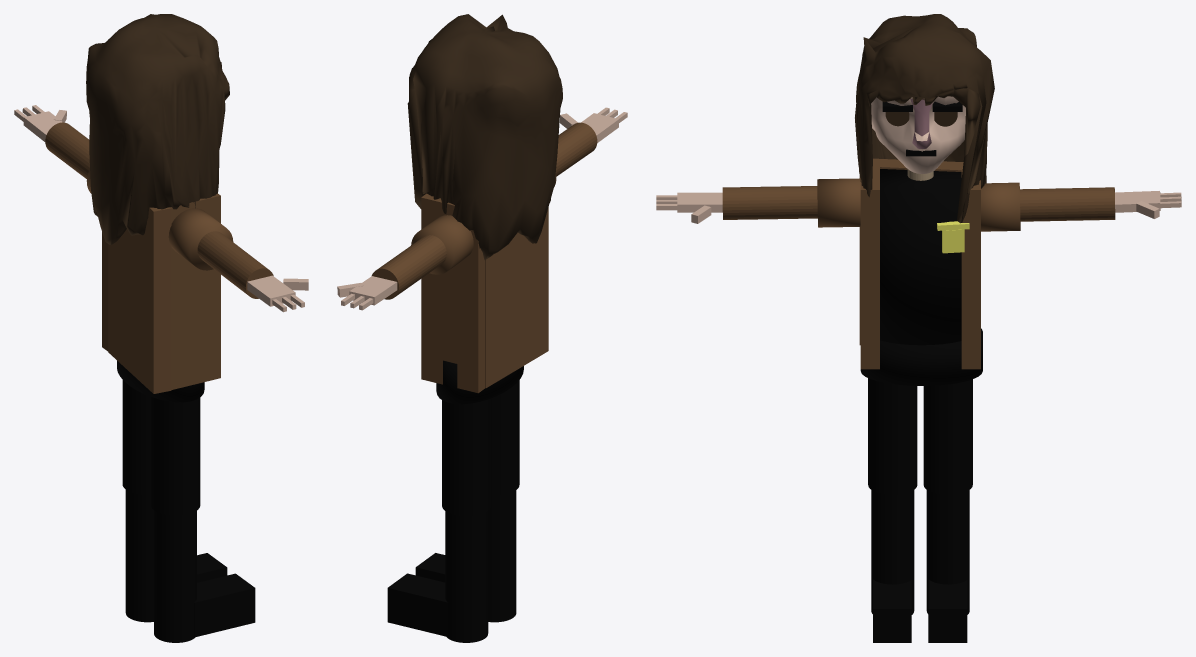
The model's file is Food Inspector.fbx.
3 views of the same model, side by side, from view 1: azimuth 30°, elevation 25°; view 2: azimuth 150°, elevation 25°; view 3: azimuth 270°, elevation 25° (orthographic).
Parts seen in each view (by area): view 1: Food Inspector; view 2: Food Inspector; view 3: Food Inspector.
Part boxes in pixels (x1=…): Food Inspector: x1=14, y1=14, x2=308, y2=642; Food Inspector: x1=337, y1=14, x2=627, y2=642; Food Inspector: x1=656, y1=14, x2=1181, y2=642.
Bounding box in the file's own units: 130 × 533 × 432.
